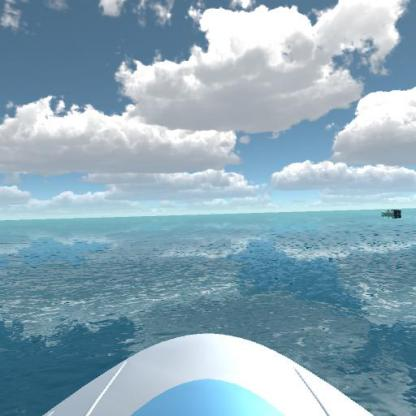usv0: (377, 205, 406, 222)
